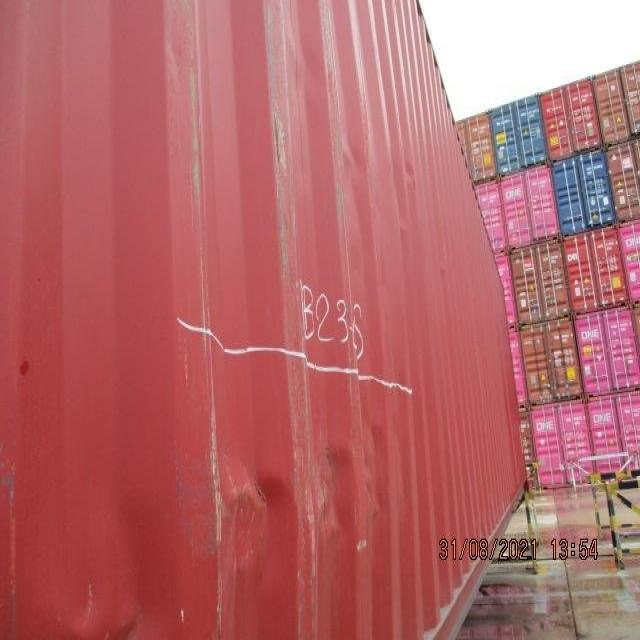Dent: (165, 395, 420, 607)
Minor-Dent: (327, 124, 429, 259)
